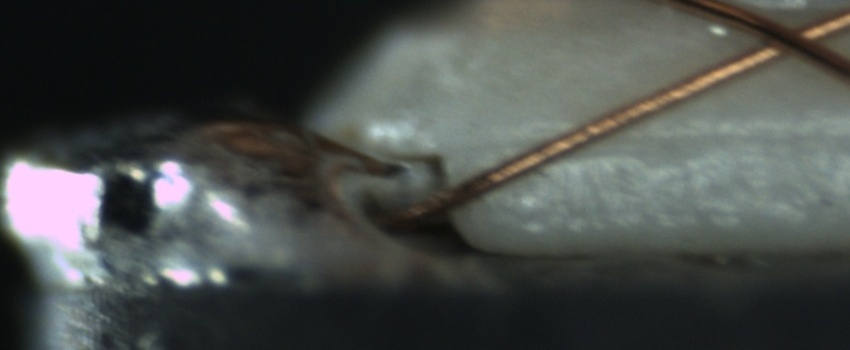CL: (736, 4, 841, 68)
DL: (528, 105, 846, 168)
